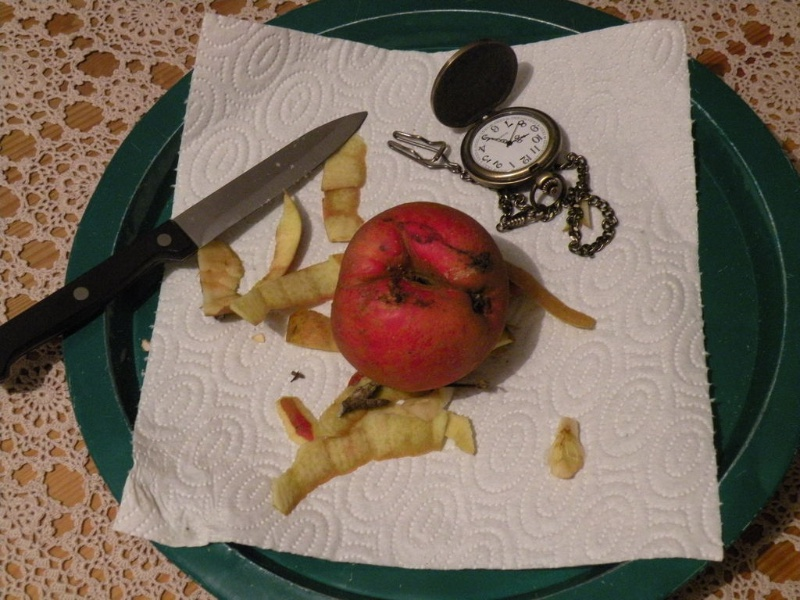knife: (1, 111, 372, 375)
